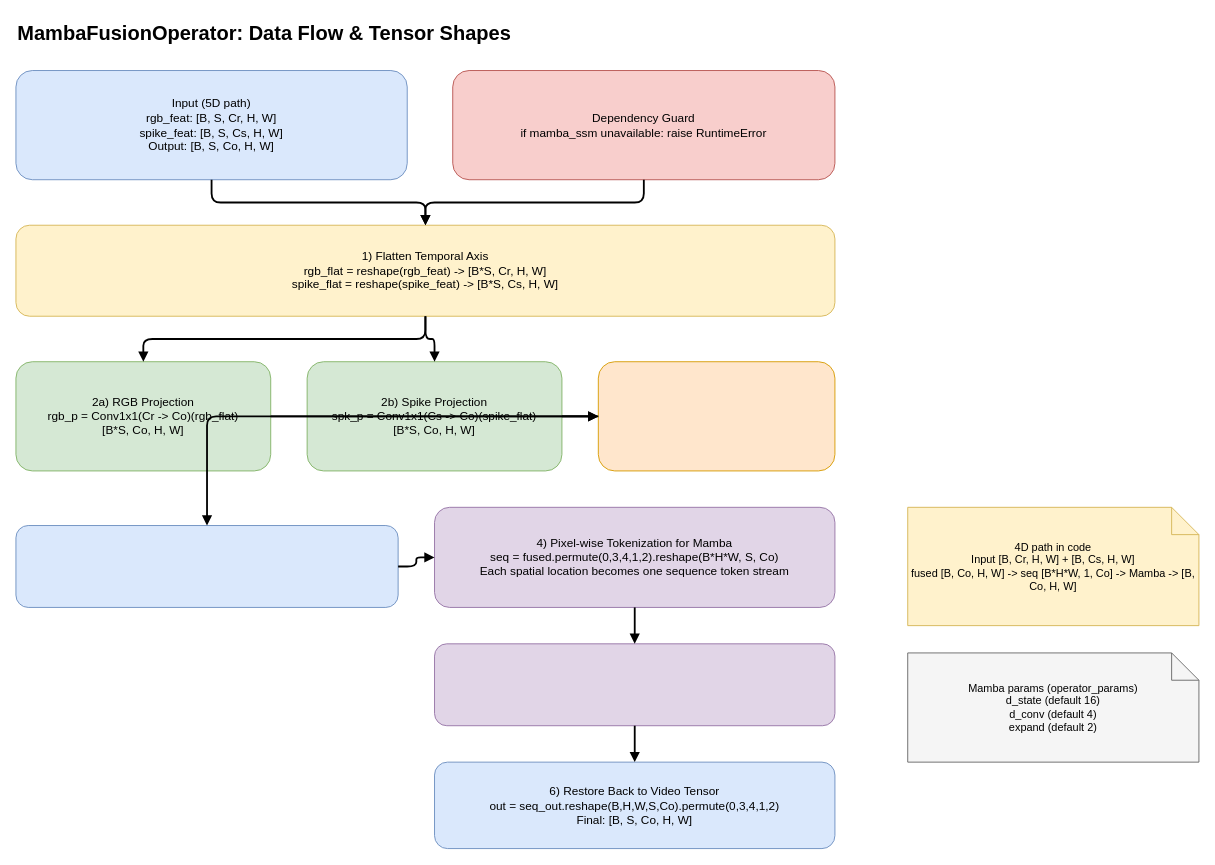
This 1215x865 diagram has some shape labels left out. Each missing label, with the centre of its shape:
"2c) Linear Fusion fused_flat = rgb_p + spk_p [B*S, Co, H, W]" belongs at point (716, 416).
"3) Restore Video Layout fused = reshape(fused_flat) -> [B, S, Co, H, W]" belongs at point (206, 566).
"5) Temporal Modeling seq_out = Mamba(seq) shape keeps: [B*H*W, S, Co]" belongs at point (634, 684).
